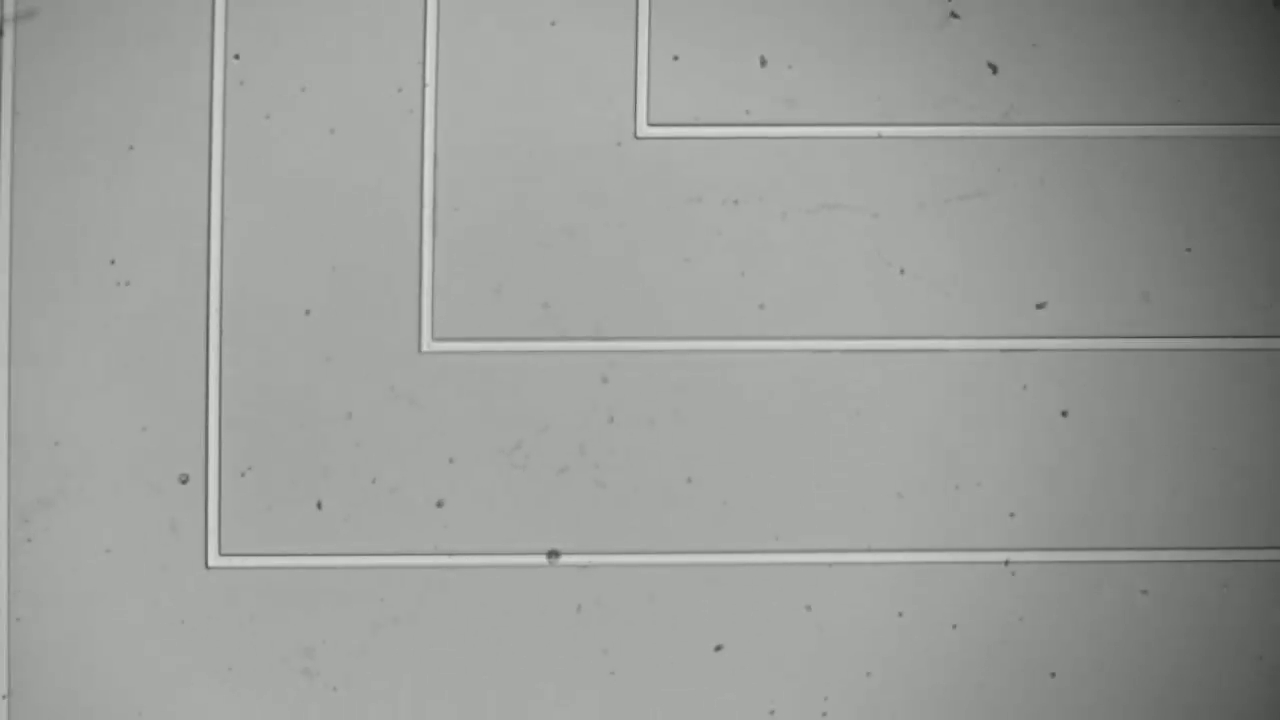stains_enbedded: (539, 538, 572, 575)
